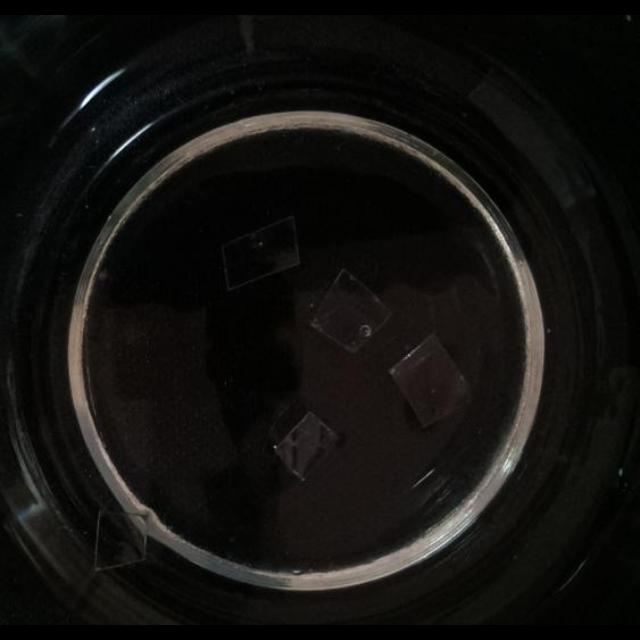Film: (386, 334, 470, 428), (308, 268, 394, 354), (220, 215, 302, 291), (272, 410, 344, 482), (90, 506, 148, 570)
